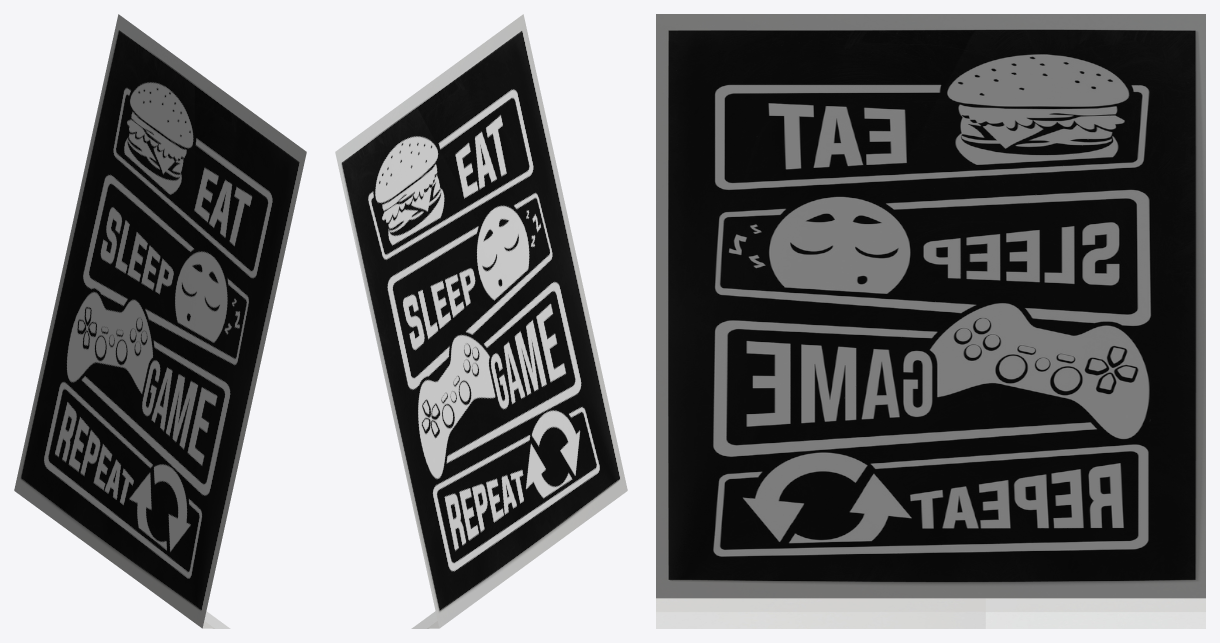
File: object_25_lev1.glb
3 views of the same model, side by side, from view 1: azimuth 30°, elevation 25°; view 2: azimuth 150°, elevation 25°; view 3: azimuth 270°, elevation 25° (orthographic). The views are drawn at different scales.
Visible parts, largest first — view 1: object_25_lev1; view 2: object_25_lev1; view 3: object_25_lev1.
Part boxes in pixels (box(x1,y1,x2,y2)): object_25_lev1: box(14, 14, 306, 628); object_25_lev1: box(335, 14, 627, 628); object_25_lev1: box(656, 14, 1205, 628).
Bounding box in the file's own units: 1.25 × 5.25 × 3.91.
1 material, 1 textured.
